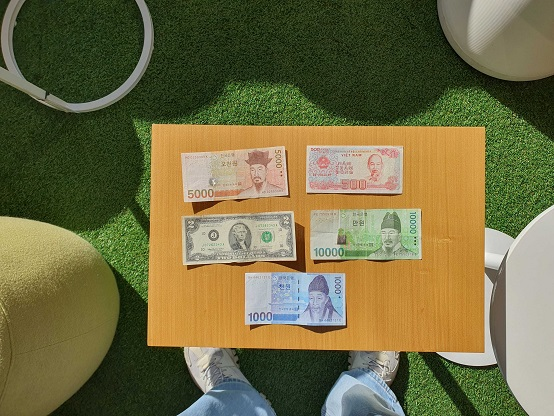10000won: (309, 208, 421, 259)
1000won: (243, 271, 345, 326)
2dollar: (179, 210, 297, 266)
5000won: (180, 145, 288, 201)
500vnd: (305, 145, 404, 193)
